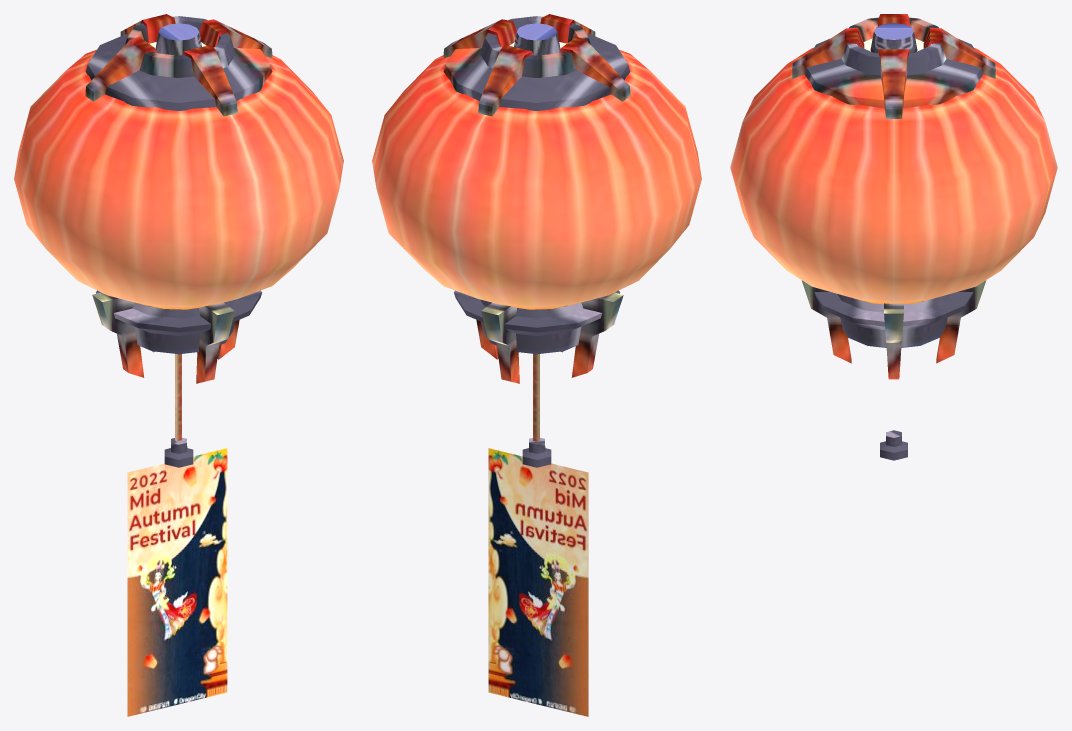
Rendered from denglong.glb.
3 views of the same model, side by side, from view 1: azimuth 30°, elevation 25°; view 2: azimuth 150°, elevation 25°; view 3: azimuth 270°, elevation 25° (orthographic).
Visible parts, largest first — view 1: common_chunjieA_006_1; view 2: common_chunjieA_006_1; view 3: common_chunjieA_006_1.
Boxes of the visible parts, <box> form: common_chunjieA_006_1: <box>14,14,343,716</box>; common_chunjieA_006_1: <box>372,14,701,716</box>; common_chunjieA_006_1: <box>730,14,1057,460</box>.
Size of the model in its own units: 1.03 by 2.29 by 1.03.
Materials: 1 (1 with a texture image).
